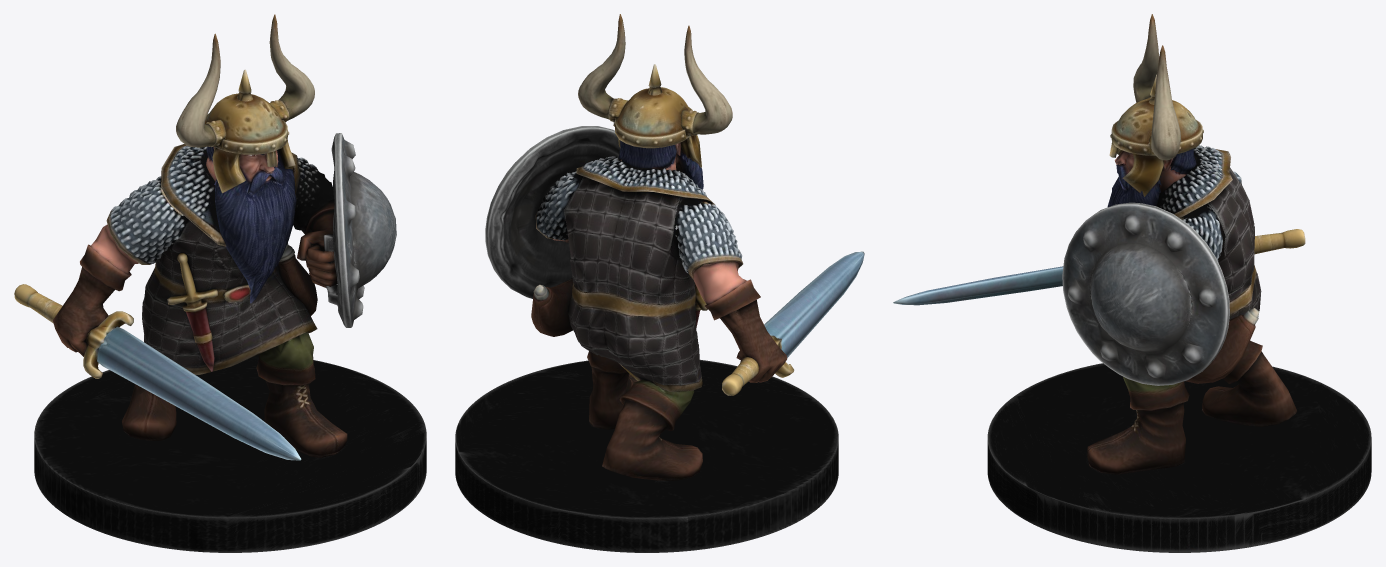
The model's file is MZ4250 - Dwarf Fighter (Elkhorn).glb.
The picture shows the model from 3 angles, left to right: view 1: azimuth 30°, elevation 25°; view 2: azimuth 150°, elevation 25°; view 3: azimuth 270°, elevation 25°; orthographic projection. The views are drawn at different scales.
Visible parts, largest first — view 1: base_low.001, body_low.001, helm_low.001, sword_low.001, shield_low.001, dagger_low.001, waterskin_low.001; view 2: base_low.001, body_low.001, shield_low.001, helm_low.001, sword_low.001, waterskin_low.001; view 3: base_low.001, shield_low.001, body_low.001, helm_low.001, sword_low.001, waterskin_low.001.
Boxes of the visible parts, bbox=[...] form: base_low.001: bbox=[34, 354, 426, 552]; body_low.001: bbox=[53, 144, 347, 457]; helm_low.001: bbox=[176, 14, 314, 193]; sword_low.001: bbox=[14, 284, 301, 460]; shield_low.001: bbox=[323, 133, 396, 327]; dagger_low.001: bbox=[167, 253, 218, 371]; waterskin_low.001: bbox=[278, 243, 317, 315]; base_low.001: bbox=[455, 359, 838, 552]; body_low.001: bbox=[535, 140, 787, 480]; shield_low.001: bbox=[485, 126, 619, 298]; helm_low.001: bbox=[578, 14, 732, 167]; sword_low.001: bbox=[722, 251, 864, 395]; waterskin_low.001: bbox=[531, 278, 572, 336]; base_low.001: bbox=[987, 363, 1371, 552]; shield_low.001: bbox=[1062, 202, 1229, 385]; body_low.001: bbox=[1087, 145, 1296, 474]; helm_low.001: bbox=[1109, 14, 1203, 196]; sword_low.001: bbox=[893, 229, 1305, 305]; waterskin_low.001: bbox=[1185, 308, 1259, 383].
Size of the model in its own units: 4.4 by 5.61 by 5.48.
1 material, 1 textured.
